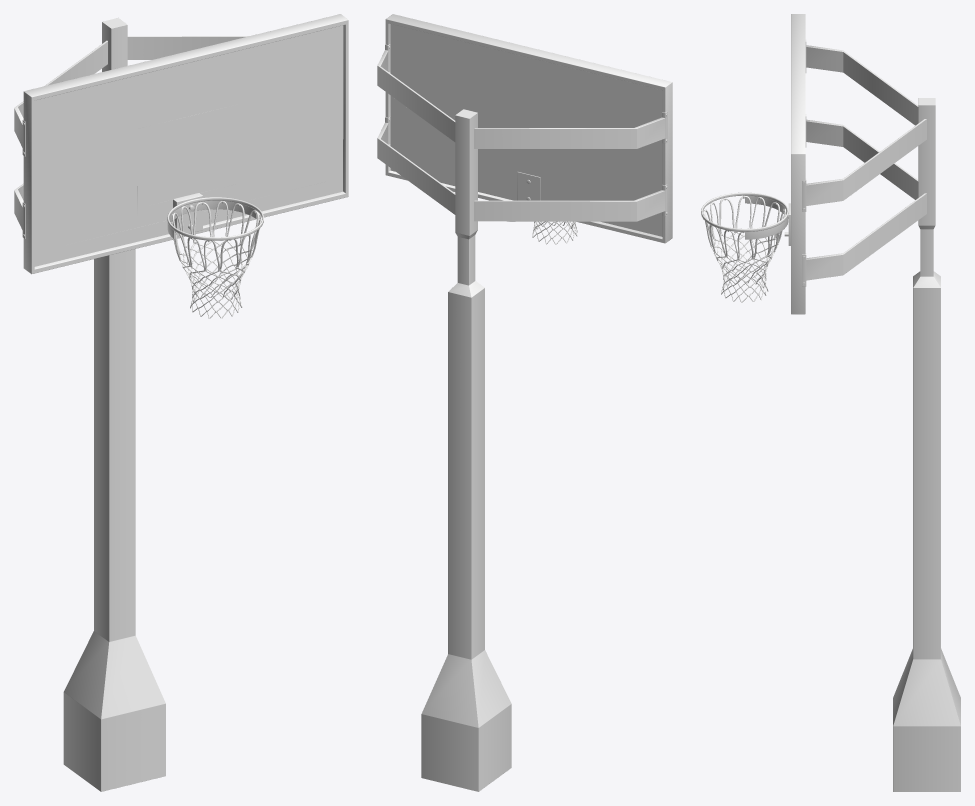
Rendered from basketball_hoop2.glb.
3 renders of one model, left to right at view 1: azimuth 30°, elevation 25°; view 2: azimuth 150°, elevation 25°; view 3: azimuth 270°, elevation 25°, orthographic. The views are drawn at different scales.
Parts seen in each view (by area): view 1: Plane01, Object01, Object03; view 2: Plane01, Object01; view 3: Plane01.
Part boxes in pixels (left/top/right/bottom): Plane01: left=14, top=14, right=348, bottom=791; Object01: left=48, top=41, right=326, bottom=249; Object03: left=34, top=25, right=343, bottom=266; Plane01: left=377, top=14, right=672, bottom=791; Object01: left=390, top=24, right=662, bottom=236; Plane01: left=701, top=14, right=960, bottom=791.
Size of the model in its own units: 171 by 391 by 133.
3 materials, 1 textured.
